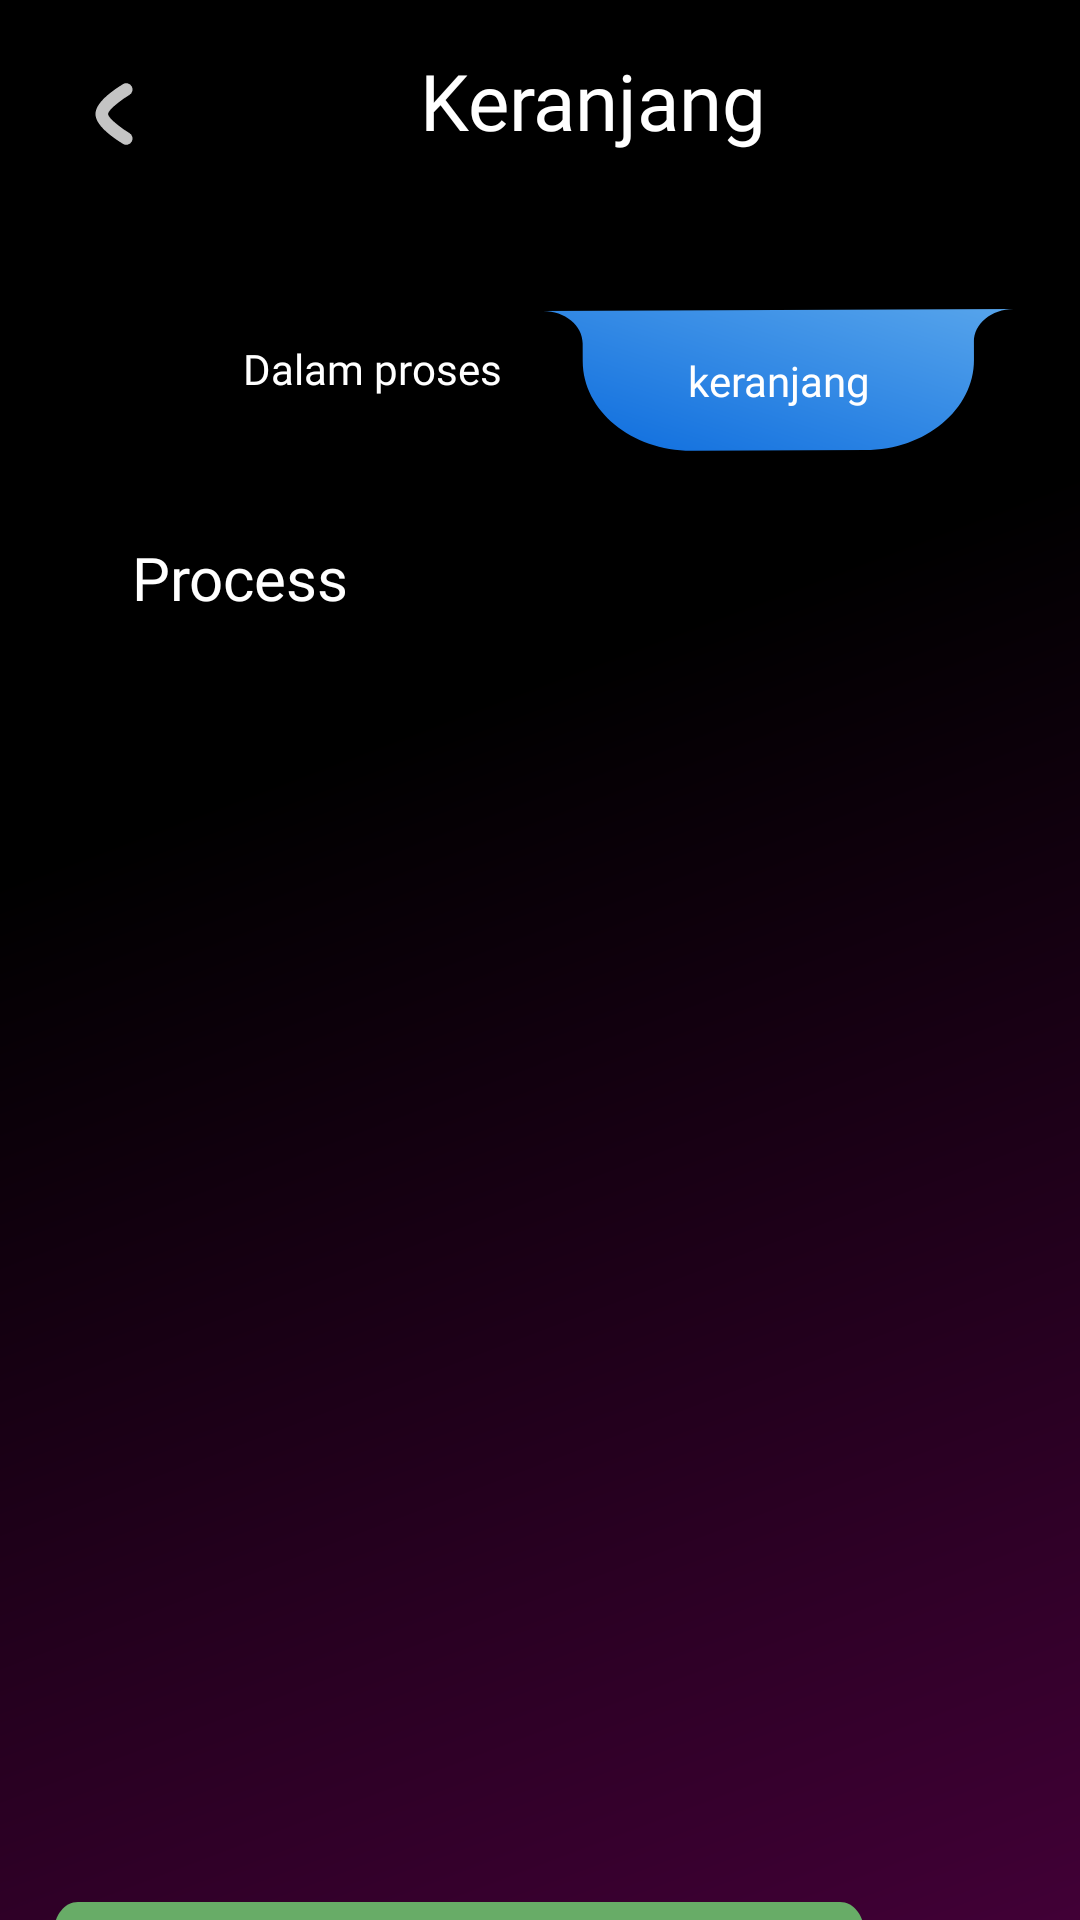

Icon bounding boxes for this 1080x1920 phone screenshot, format [left=x1, top=y1, right=x2, bottom=y2]:
back: [left=95, top=83, right=133, bottom=145]
